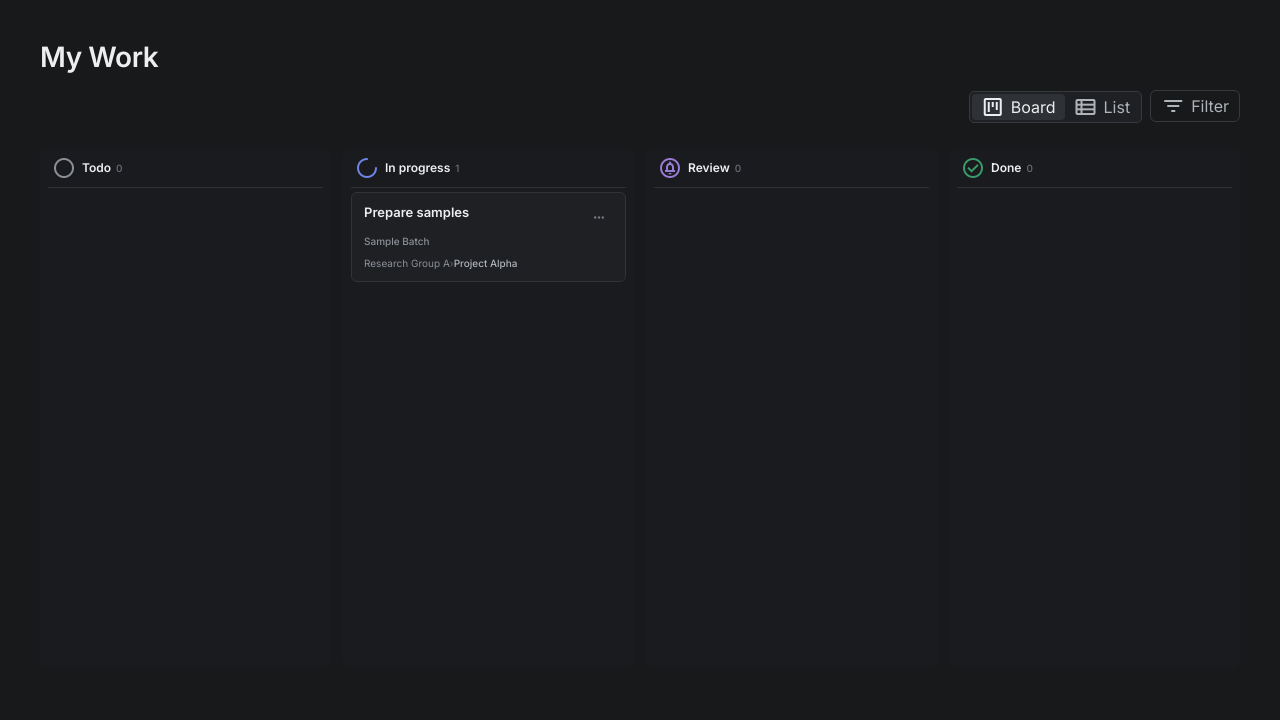
My Work List View — status and type presentation › displays the concrete statusName (project-local status)
The width and height of the screenshot is (1280, 720).
Check: the element showing "Todo 0" is shown, box [40,148,331,668]
Click the button "List": (1102, 107) [1064,94,1139,120]
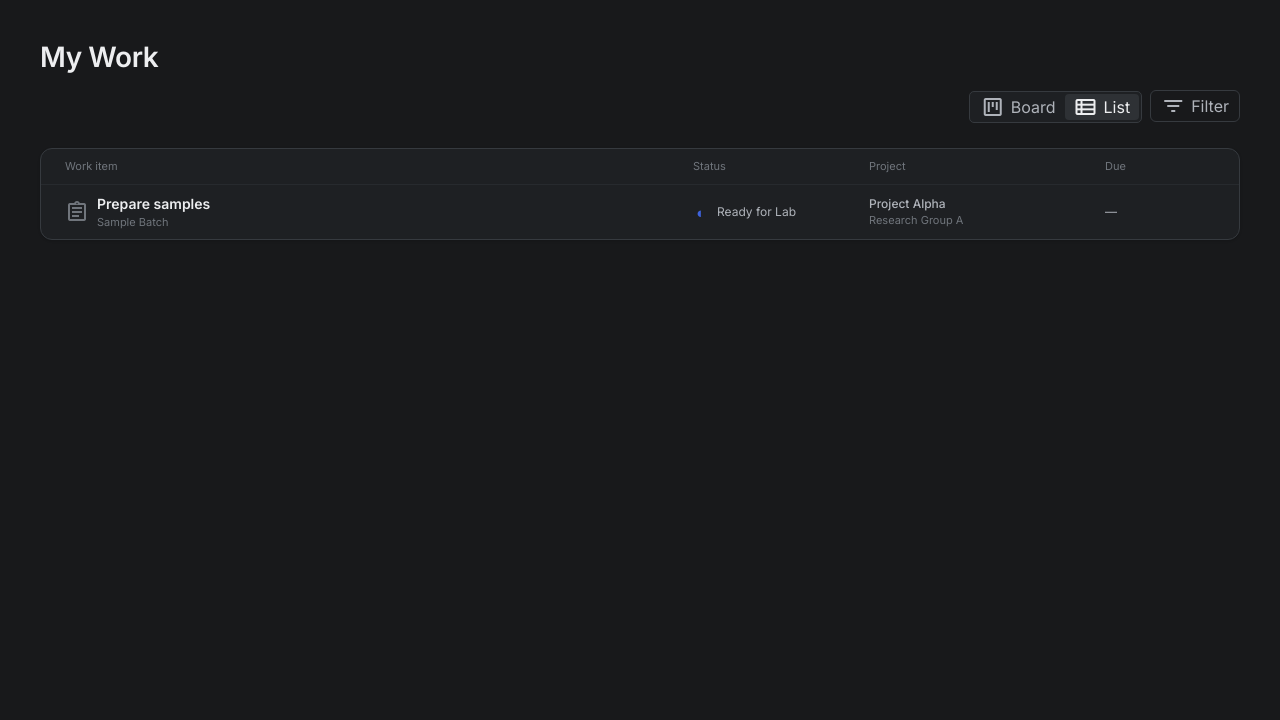
Check: the text "Ready for Lab" is shown, box [717,204,796,220]
